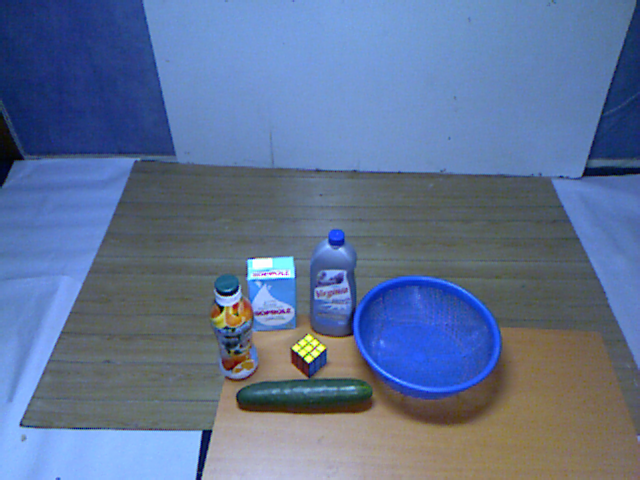cera: (303, 222, 362, 341)
colador: (344, 269, 505, 402)
cubix: (287, 330, 332, 383)
leche: (241, 251, 302, 334)
pepino: (232, 372, 380, 419)
yogurt: (205, 273, 265, 385)
